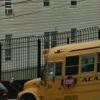Bus: (16, 41, 100, 100)
